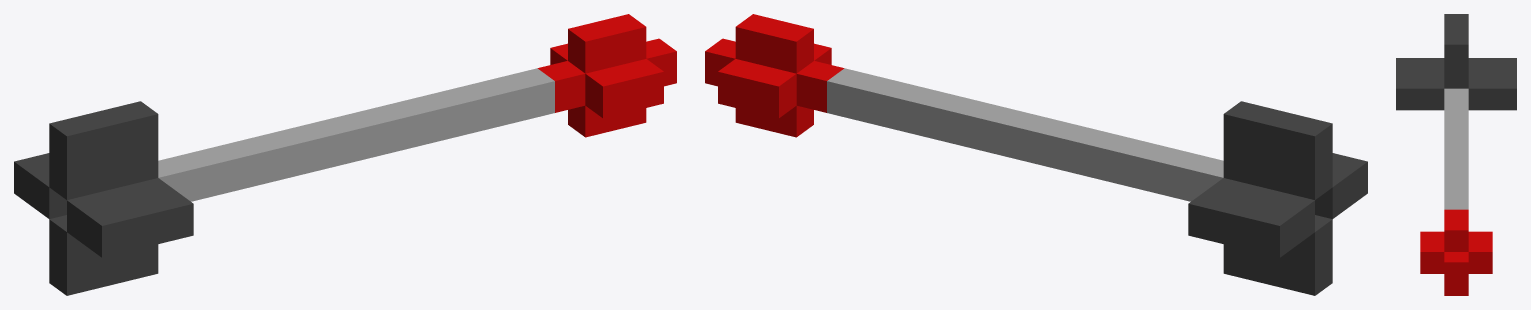
Rendered from Missile.obj.
The picture shows the model from 3 angles, left to right: view 1: azimuth 30°, elevation 25°; view 2: azimuth 150°, elevation 25°; view 3: azimuth 270°, elevation 25°; orthographic projection. The views are drawn at different scales.
Parts seen in each view (by area): view 1: Missile; view 2: Missile; view 3: Missile.
Boxes of the visible parts, x1,y1,x2,y2 form: Missile: [14, 14, 676, 295]; Missile: [705, 14, 1367, 295]; Missile: [1396, 14, 1516, 295].
Size of the model in its own units: 20 by 5 by 5.
